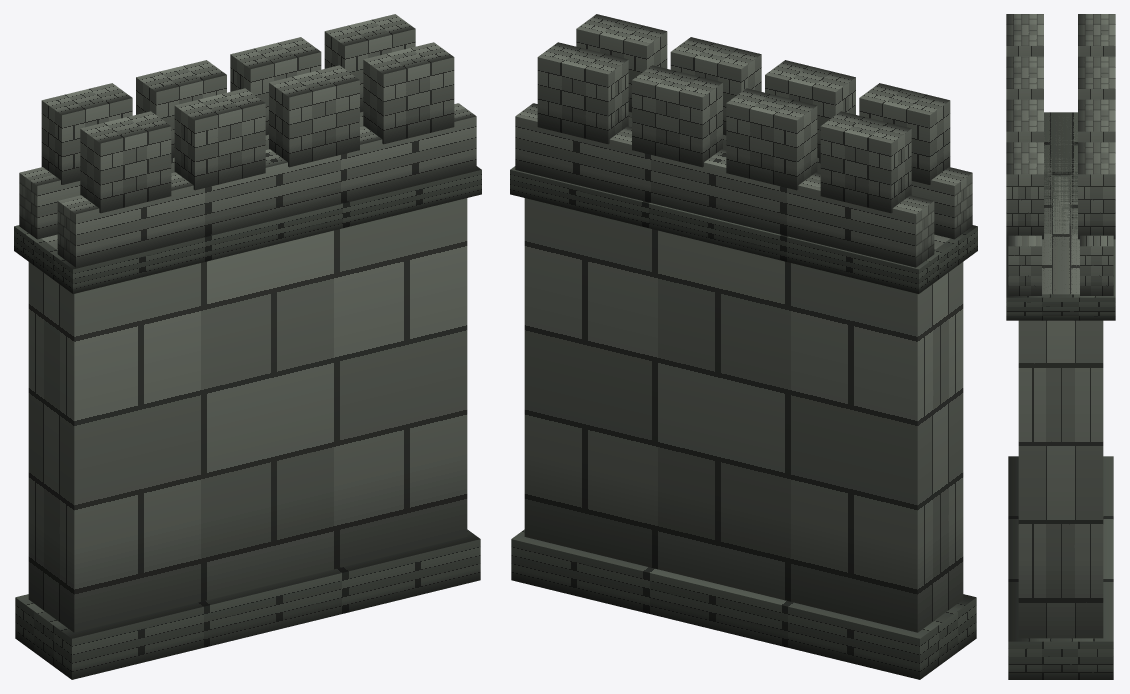
Rendered from wall_dark.gltf.
3 views of the same model, side by side, from view 1: azimuth 30°, elevation 25°; view 2: azimuth 150°, elevation 25°; view 3: azimuth 270°, elevation 25° (orthographic). The views are drawn at different scales.
Parts seen in each view (by area): view 1: wall_dark; view 2: wall_dark; view 3: wall_dark.
Boxes of the visible parts, left/top/right/bottom form: wall_dark: left=14, top=14, right=481, bottom=679; wall_dark: left=510, top=14, right=977, bottom=679; wall_dark: left=1006, top=14, right=1115, bottom=679.
Bounding box in the file's own units: 1.04 × 1.29 × 0.26.
1 material, 1 textured.
